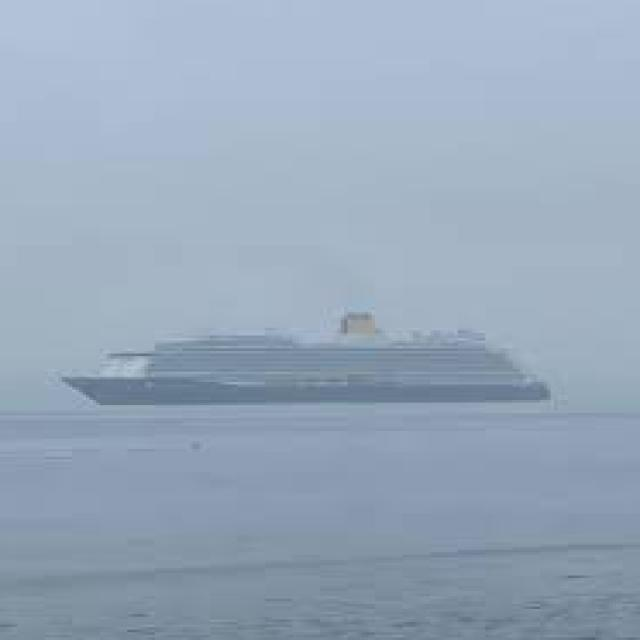passenger ship: (48, 302, 555, 411)
